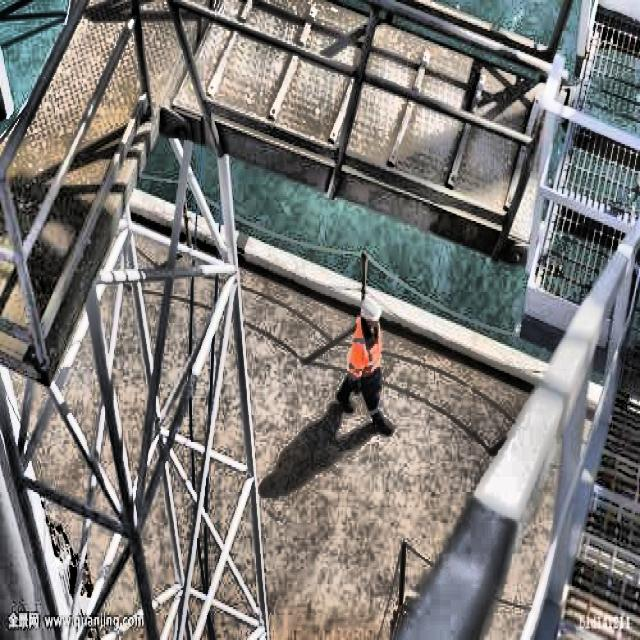helmet: (357, 290, 383, 336)
